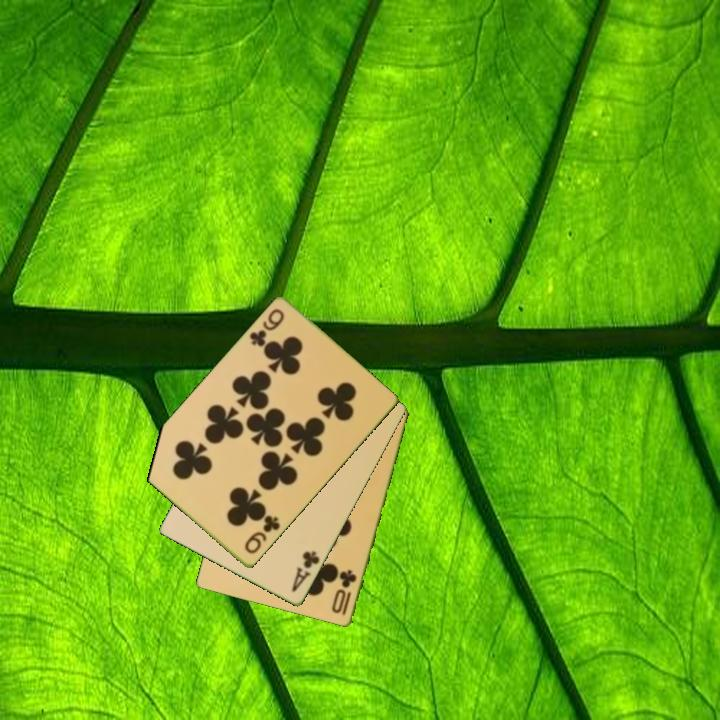10c: (329, 566, 360, 619)
9c: (241, 512, 283, 557), (245, 305, 287, 350)
Ac: (288, 548, 323, 595)
